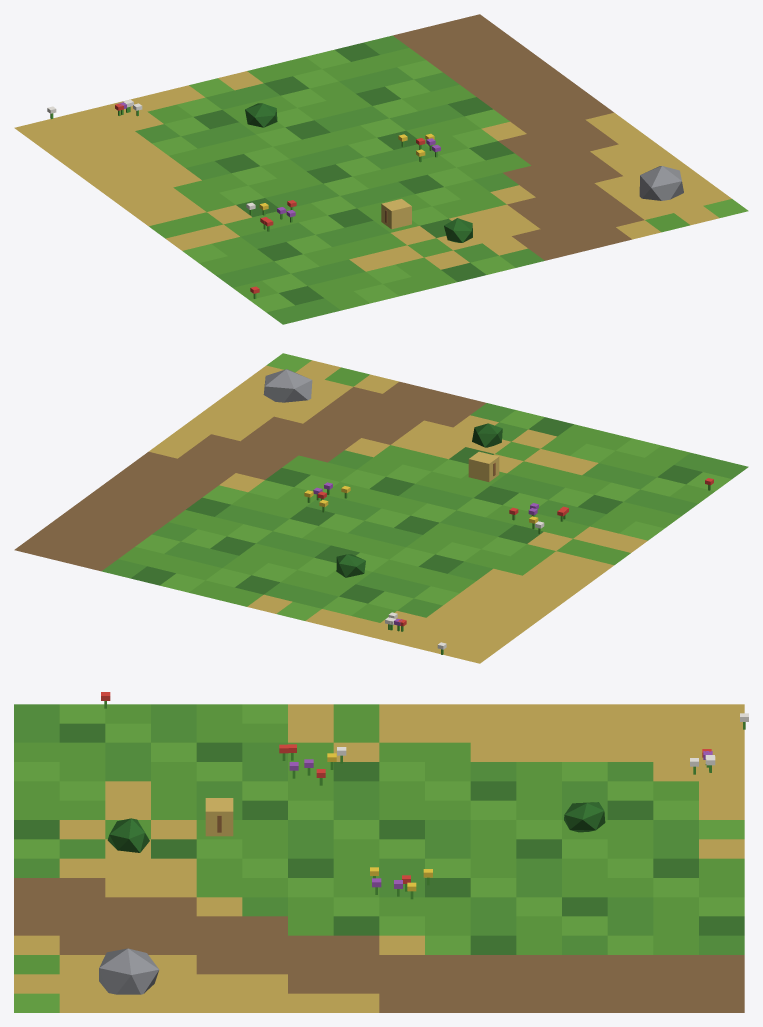
File: chunk_10_12.glb
3 renders of one model, top to bottom at view 1: azimuth 30°, elevation 25°; view 2: azimuth 150°, elevation 25°; view 3: azimuth 270°, elevation 25°, orthographic. The views are drawn at different scales.
Visible parts, largest first — view 1: chunk_10_12; view 2: chunk_10_12; view 3: chunk_10_12.
Boxes of the visible parts, x1=… form: chunk_10_12: x1=14, y1=14, x2=748, y2=324; chunk_10_12: x1=14, y1=353, x2=748, y2=663; chunk_10_12: x1=14, y1=692, x2=748, y2=1012.
Bounding box in the file's own units: 16 × 1.28 × 16.1.
